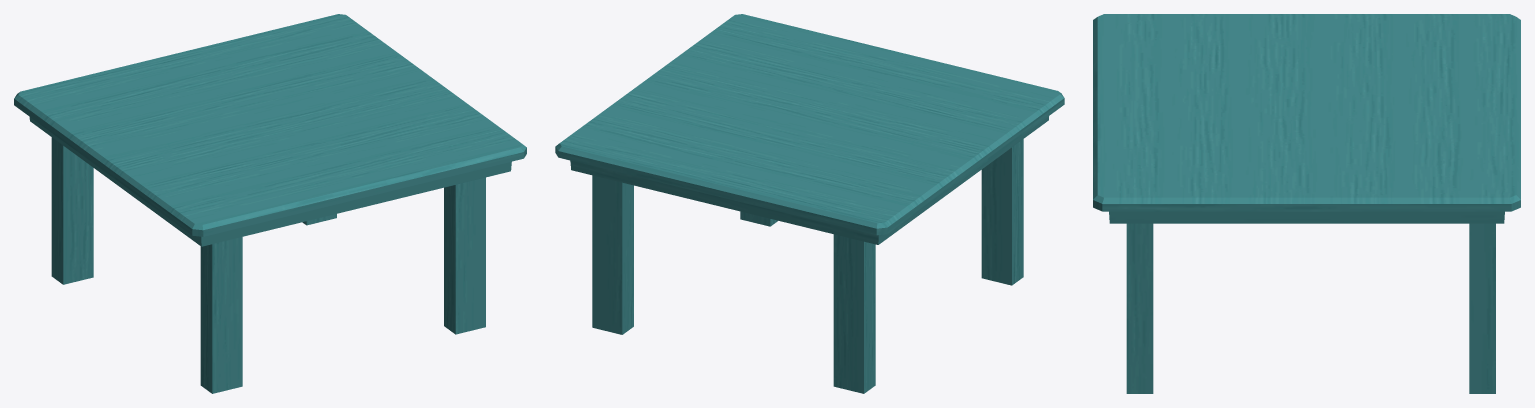
Rendered from Square Table_F.FBX.
3 views of the same model, side by side, from view 1: azimuth 30°, elevation 25°; view 2: azimuth 150°, elevation 25°; view 3: azimuth 270°, elevation 25° (orthographic). The views are drawn at different scales.
Visible parts, largest first — view 1: Square Table; view 2: Square Table; view 3: Square Table.
Boxes of the visible parts, x1,y1,x2,y2 form: Square Table: (14,14,526,393); Square Table: (555,14,1064,393); Square Table: (1093,14,1520,393).
Size of the model in its own units: 264 by 138 by 254.
